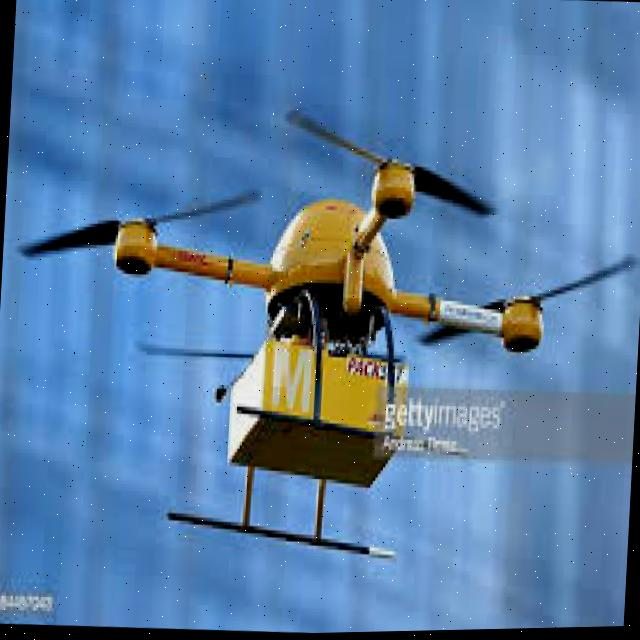drone: (16, 94, 608, 577)
